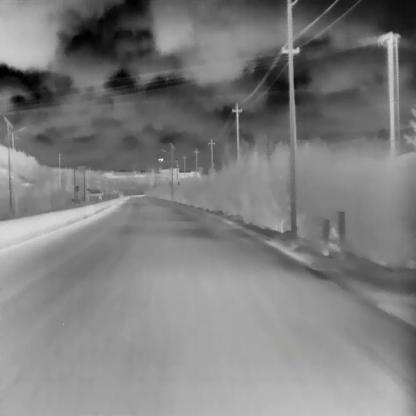truck: (118, 189, 124, 197)
